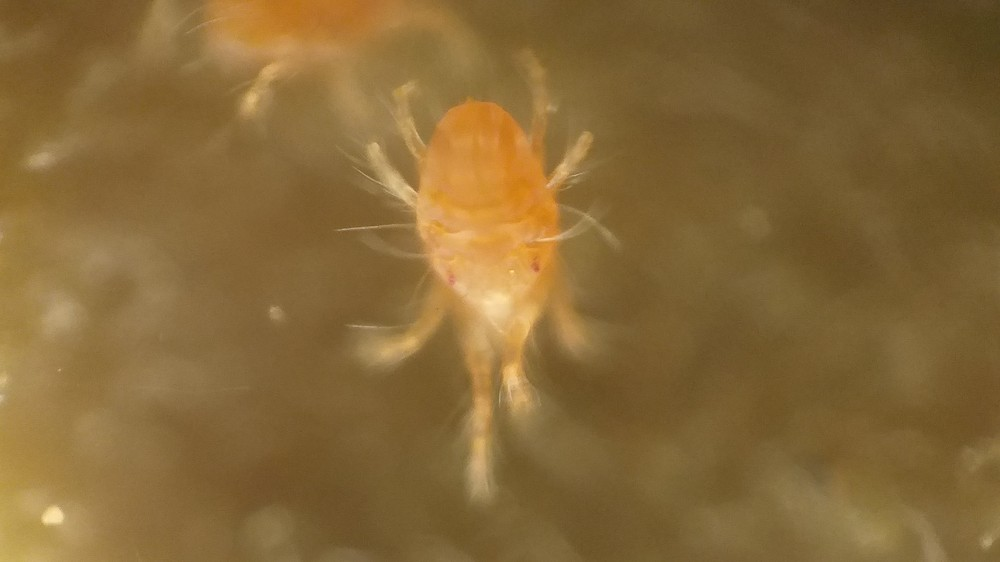Aracnido Rojo: (330, 49, 664, 506)
